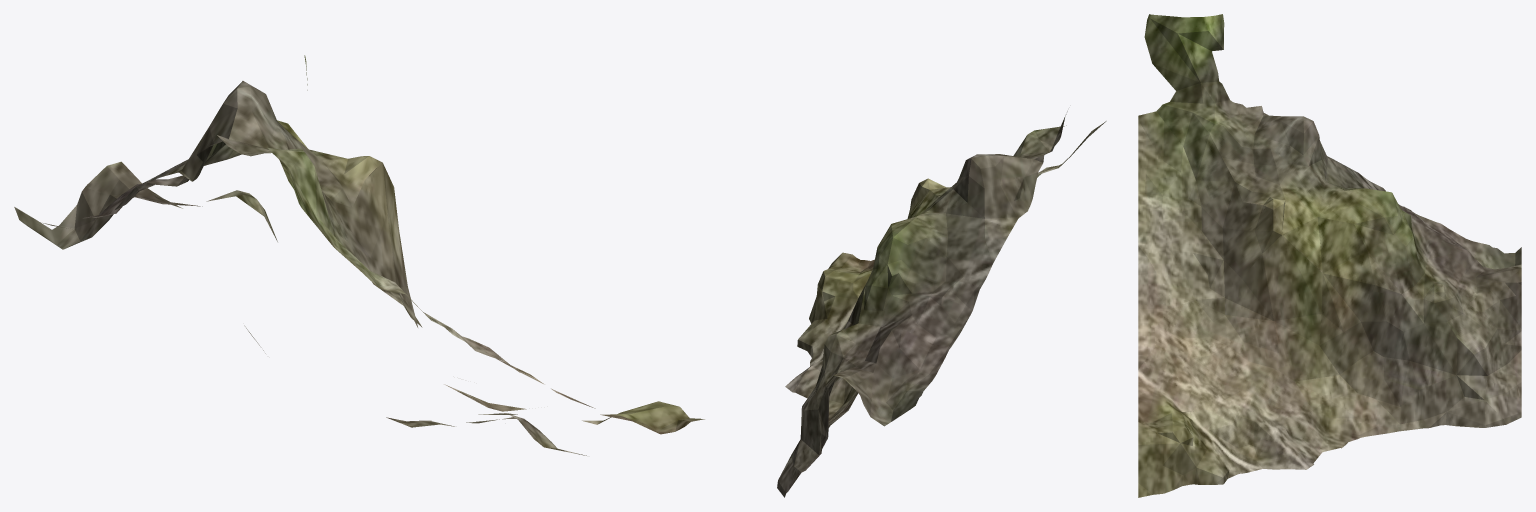
The picture shows the model from 3 angles, left to right: view 1: azimuth 30°, elevation 25°; view 2: azimuth 150°, elevation 25°; view 3: azimuth 270°, elevation 25°; orthographic projection. The views are drawn at different scales.
Bounding box in the file's own units: 2.48 × 2.95 × 2.95.
Materials: 2 (2 with a texture image).
